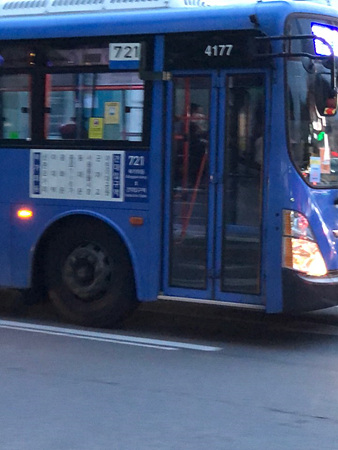entrance: (165, 65, 275, 304)
